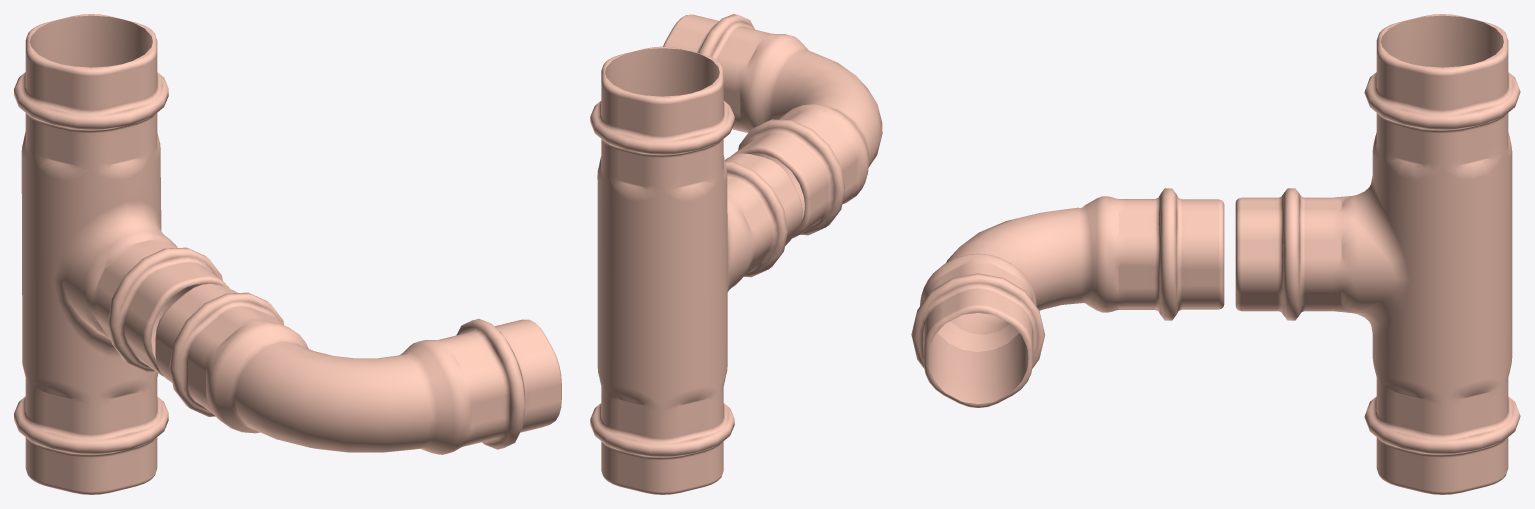
The model's file is fiting.glb.
The picture shows the model from 3 angles, left to right: view 1: azimuth 30°, elevation 25°; view 2: azimuth 150°, elevation 25°; view 3: azimuth 270°, elevation 25°; orthographic projection. The views are drawn at different scales.
Visible parts, largest first — view 1: Pocket.7, EdgeFillet.22; view 2: Pocket.7, EdgeFillet.22; view 3: Pocket.7, EdgeFillet.22.
Boxes of the visible parts, x1,y1,x2,y2 form: Pocket.7: (14, 14, 229, 494); EdgeFillet.22: (155, 283, 561, 454); Pocket.7: (590, 46, 802, 494); EdgeFillet.22: (663, 14, 882, 238); Pocket.7: (1235, 14, 1520, 494); EdgeFillet.22: (911, 188, 1224, 407).
Size of the model in its own units: 0.0576 by 0.084 by 0.1089.
Materials: 2 (2 with a texture image).
